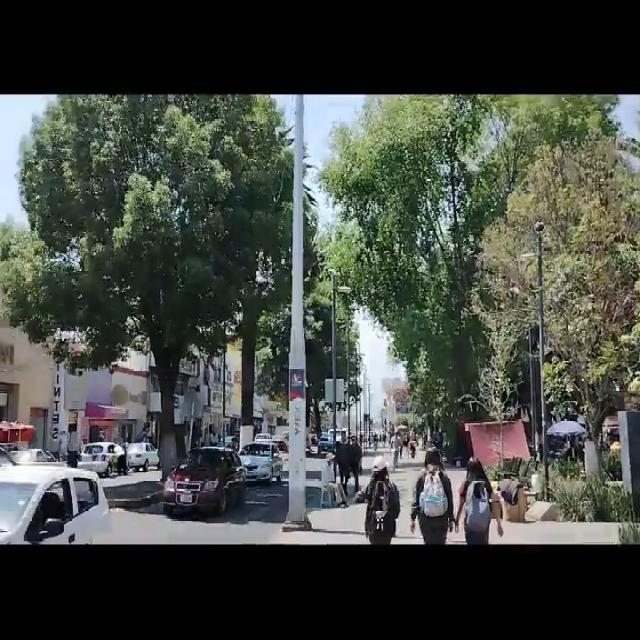adult: (455, 455, 504, 544), (410, 446, 454, 544), (362, 457, 400, 545), (322, 452, 347, 507), (345, 434, 361, 496), (333, 430, 347, 482)
